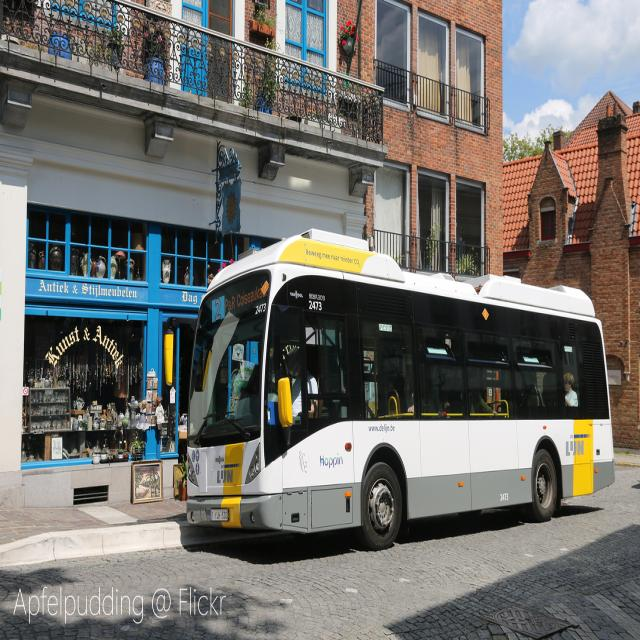bus-number: (214, 298, 222, 322)
